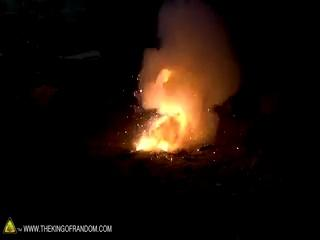Fire: (131, 64, 211, 155)
